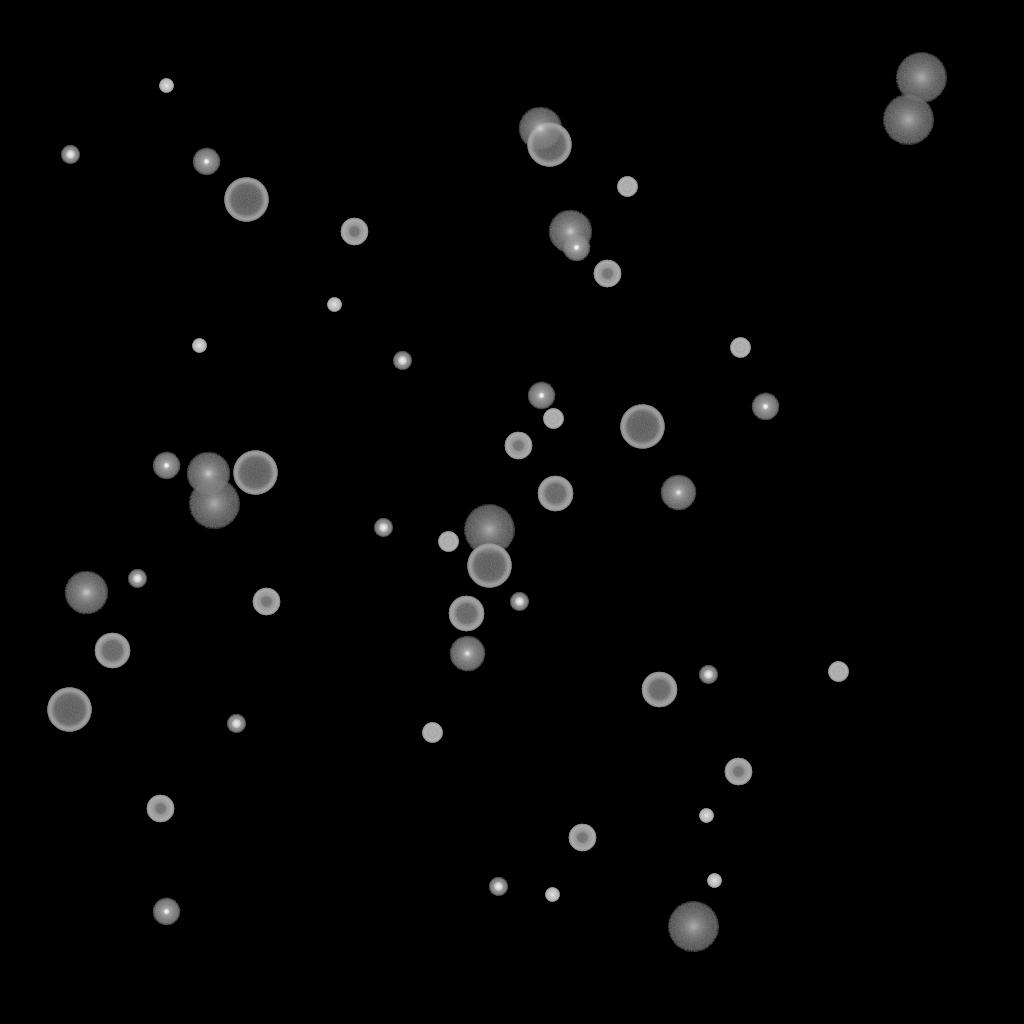depth:-10: (562, 234, 590, 262), (527, 382, 555, 410), (192, 148, 220, 176), (152, 898, 180, 926), (751, 393, 779, 421), (152, 452, 180, 480)
depth:-20: (227, 715, 245, 733), (699, 666, 717, 684), (128, 570, 146, 588), (510, 593, 528, 611), (61, 146, 79, 164), (374, 519, 392, 537), (393, 352, 411, 370), (489, 878, 507, 896)
depth:-30: (159, 79, 173, 93), (327, 298, 341, 312), (707, 874, 721, 888), (699, 809, 713, 823), (545, 888, 559, 902), (192, 339, 206, 353)
depth:-40: (730, 338, 750, 358), (543, 409, 563, 429), (617, 177, 637, 197), (438, 532, 458, 552), (422, 723, 442, 743), (828, 662, 848, 682)
depth:-50: (146, 795, 174, 823), (724, 758, 752, 786), (593, 260, 621, 288), (252, 588, 280, 616), (340, 218, 368, 246), (568, 824, 596, 852), (504, 432, 532, 460)
depth:-60: (537, 476, 573, 512), (448, 596, 484, 632), (641, 672, 677, 708), (94, 633, 130, 669)
depth:-70: (467, 544, 511, 588), (620, 405, 664, 449), (224, 178, 268, 222), (527, 123, 571, 167), (47, 688, 91, 732), (233, 451, 277, 495)
depth:0: (449, 636, 485, 672), (660, 475, 696, 511)
depth:10: (548, 210, 592, 254), (186, 452, 230, 496), (518, 107, 562, 151), (64, 571, 108, 615)
depth:20: (463, 505, 515, 555), (895, 53, 947, 103), (188, 479, 240, 529), (667, 902, 719, 952), (882, 95, 934, 145)
